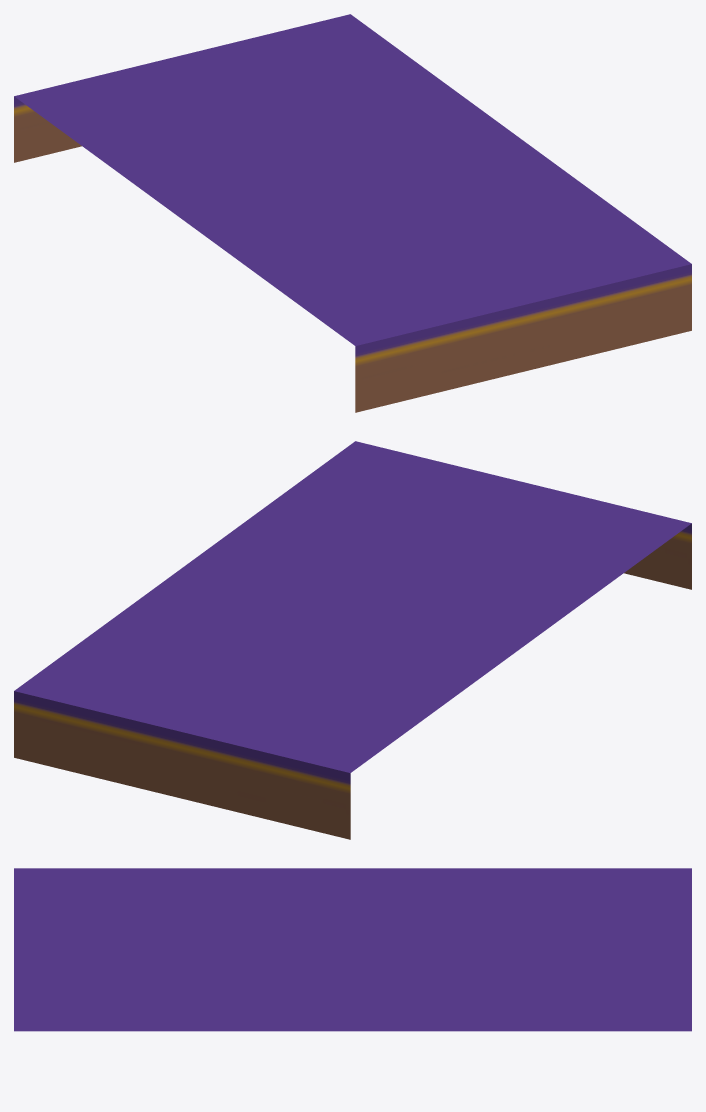
Rendered from table mid.fbx.
The picture shows the model from 3 angles, top to bottom: view 1: azimuth 30°, elevation 25°; view 2: azimuth 150°, elevation 25°; view 3: azimuth 270°, elevation 25°; orthographic projection.
Visible parts, largest first — view 1: tablemid; view 2: tablemid; view 3: tablemid.
Part boxes in pixels (x1,y1,x2,y2): tablemid: (14,14,691,412); tablemid: (14,441,691,839); tablemid: (14,868,691,1031).
Bounding box in the file's own units: 1.31 × 0.2477 × 2.3.
